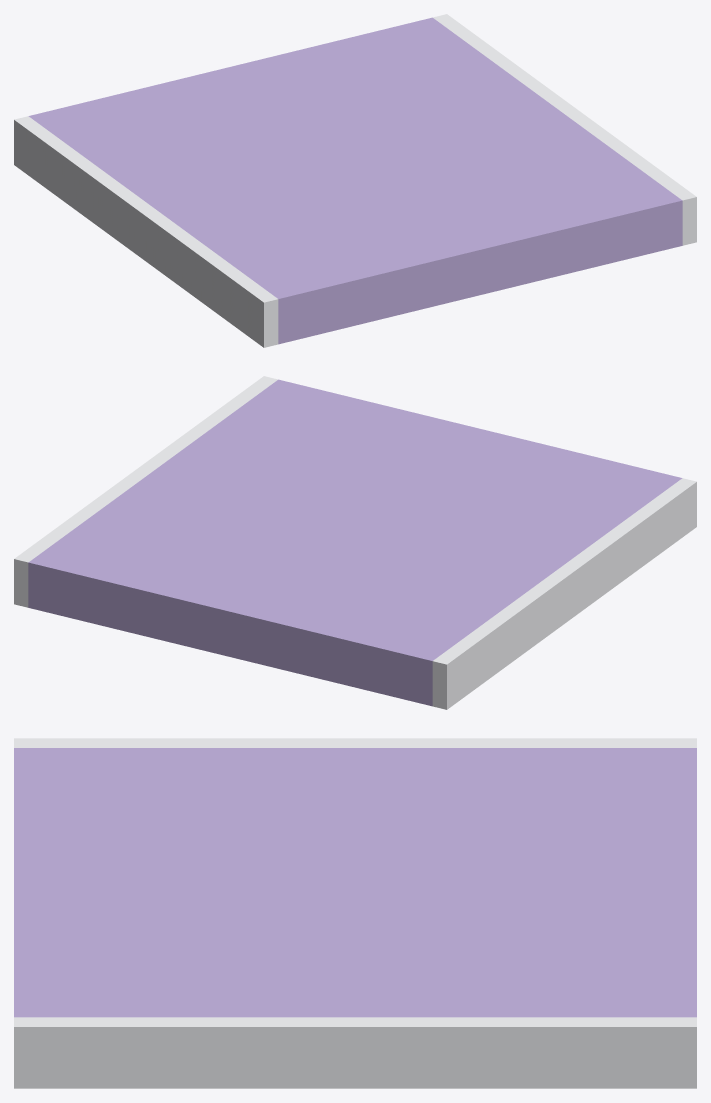
File: zemin.fbx
3 views of the same model, one above another, from view 1: azimuth 30°, elevation 25°; view 2: azimuth 150°, elevation 25°; view 3: azimuth 270°, elevation 25° (orthographic). The views are drawn at different scales.
Parts seen in each view (by area): view 1: Cube; view 2: Cube; view 3: Cube.
Boxes of the visible parts, x1,y1,x2,y2 form: Cube: (14, 14, 696, 347); Cube: (14, 376, 696, 709); Cube: (14, 738, 696, 1088).
Size of the model in its own units: 200 by 20 by 200.
